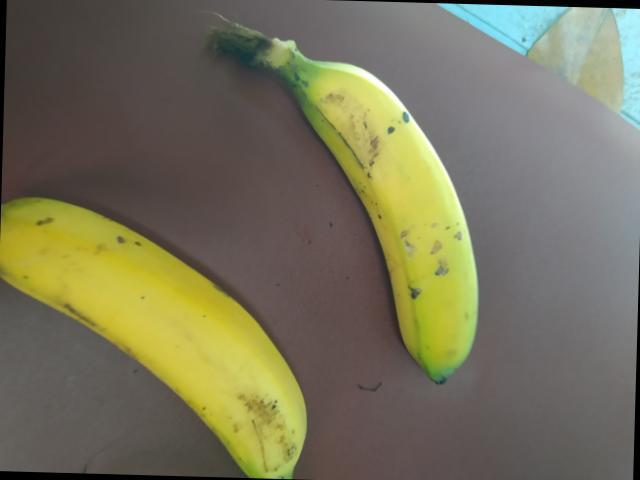freshripe: (0, 186, 337, 479)
ripe: (311, 45, 503, 434)
